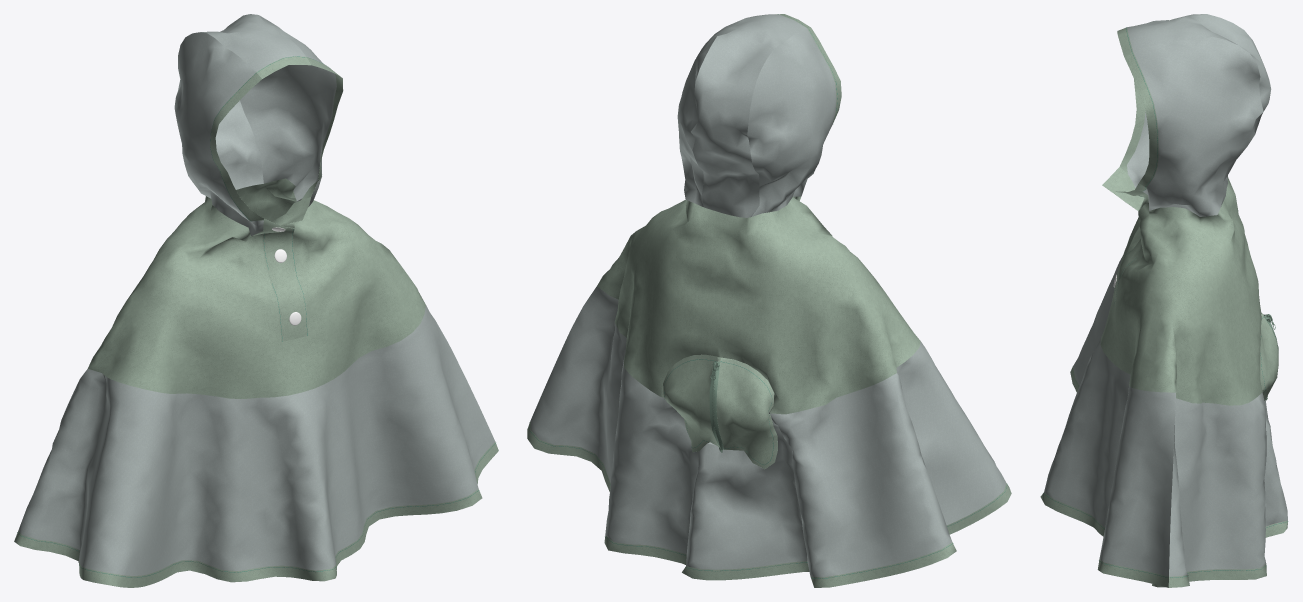
Rendered from Azul.glb.
3 views of the same model, side by side, from view 1: azimuth 30°, elevation 25°; view 2: azimuth 150°, elevation 25°; view 3: azimuth 270°, elevation 25° (orthographic). The views are drawn at different scales.
Parts seen in each view (by area): view 1: Cloth; view 2: Cloth; view 3: Cloth.
Part boxes in pixels (left/top/right/bottom): Cloth: left=14, top=14, right=498, bottom=587; Cloth: left=527, top=14, right=1011, bottom=587; Cloth: left=1040, top=14, right=1288, bottom=587.
Size of the model in its own units: 0.6528 by 0.7232 by 0.3205.
13 materials, 12 textured.
